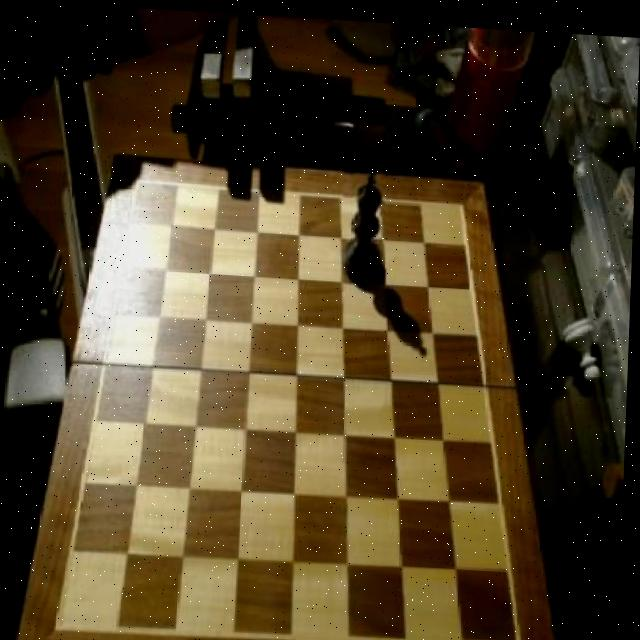black-bishop: (342, 159, 390, 288)
